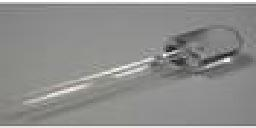LED: (143, 15, 251, 85)
